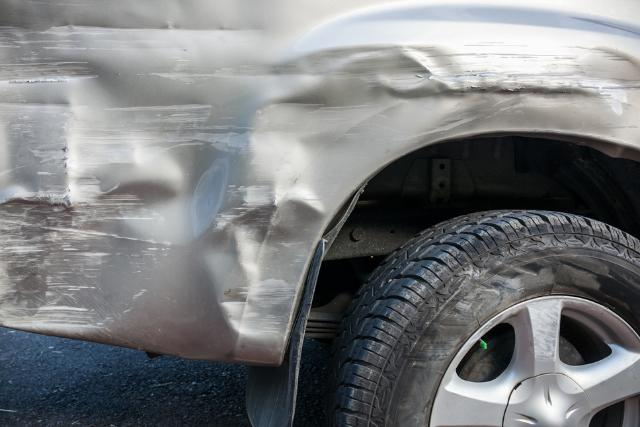Fender: (0, 10, 640, 364)
